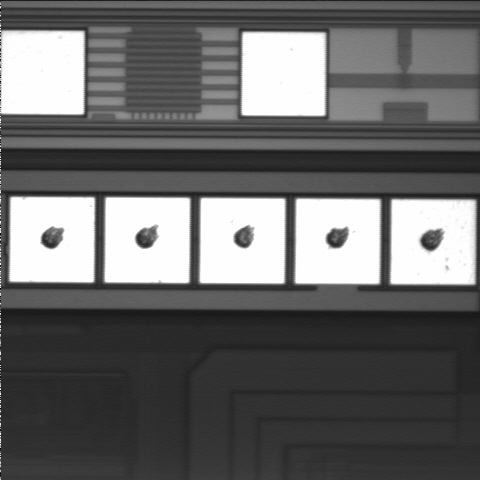pad: (10, 197, 95, 282), (105, 198, 190, 283), (200, 198, 285, 283), (295, 199, 380, 284), (391, 200, 475, 284), (242, 32, 325, 116)
